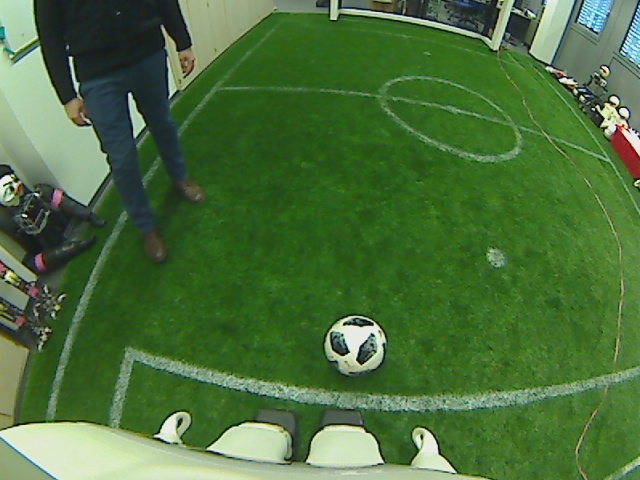ball: (324, 313, 387, 376)
